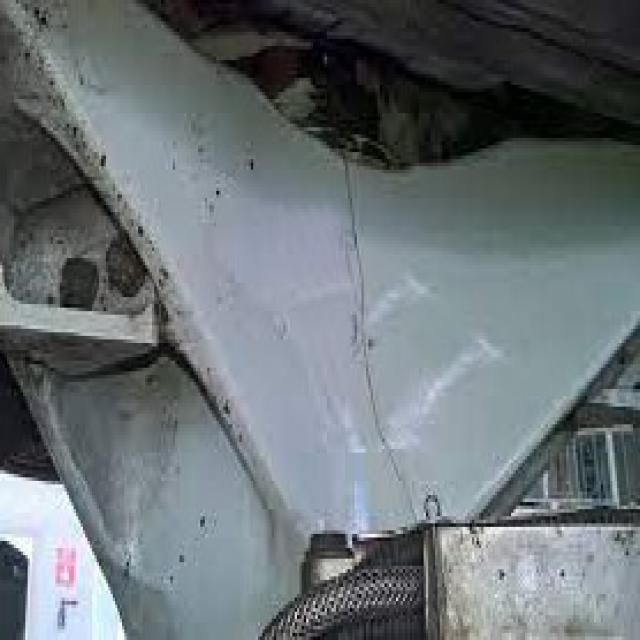crack: (327, 148, 437, 530)
